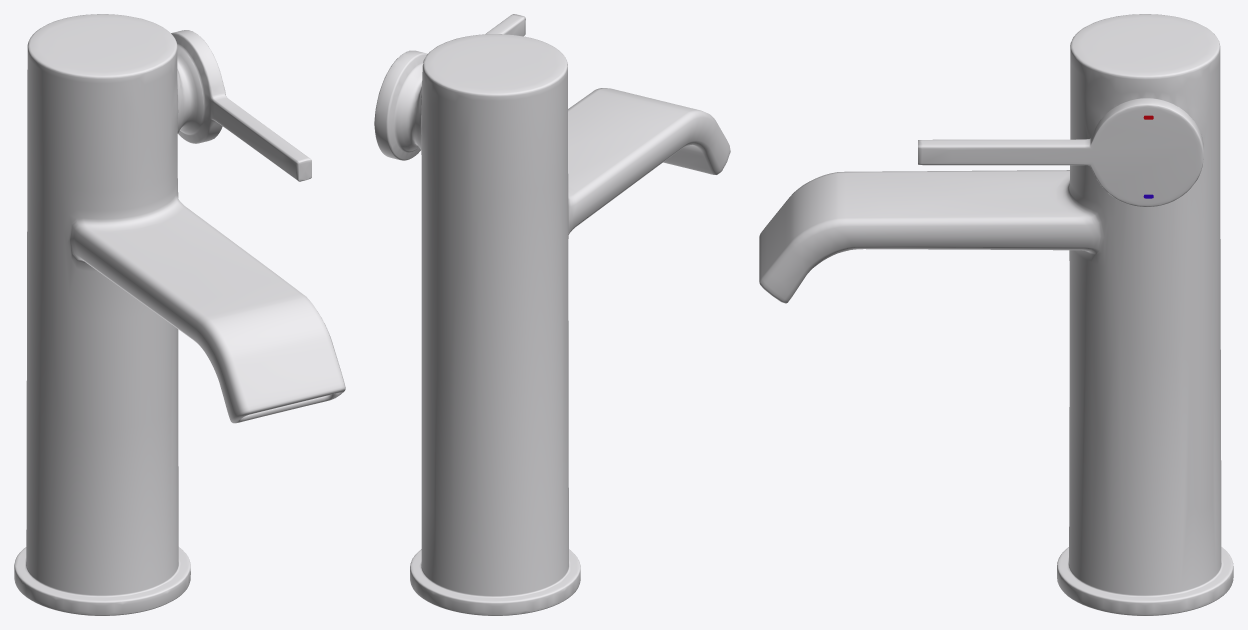
File: faucet-tap-chrome.glb
The picture shows the model from 3 angles, left to right: view 1: azimuth 30°, elevation 25°; view 2: azimuth 150°, elevation 25°; view 3: azimuth 270°, elevation 25°; orthographic projection. The views are drawn at different scales.
Parts seen in each view (by area): view 1: Faucet (Tap) Chrome; view 2: Faucet (Tap) Chrome; view 3: Faucet (Tap) Chrome.
Boxes of the visible parts, bbox=[...] form: Faucet (Tap) Chrome: bbox=[14, 14, 345, 615]; Faucet (Tap) Chrome: bbox=[374, 14, 730, 615]; Faucet (Tap) Chrome: bbox=[759, 14, 1233, 615].
Bounding box in the file's own units: 0.0533 × 0.1559 × 0.1252.
3 materials, 1 textured.
